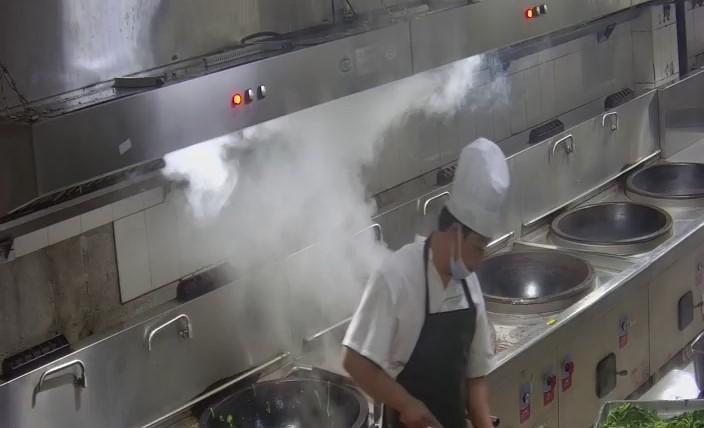mask: (446, 234, 481, 276)
